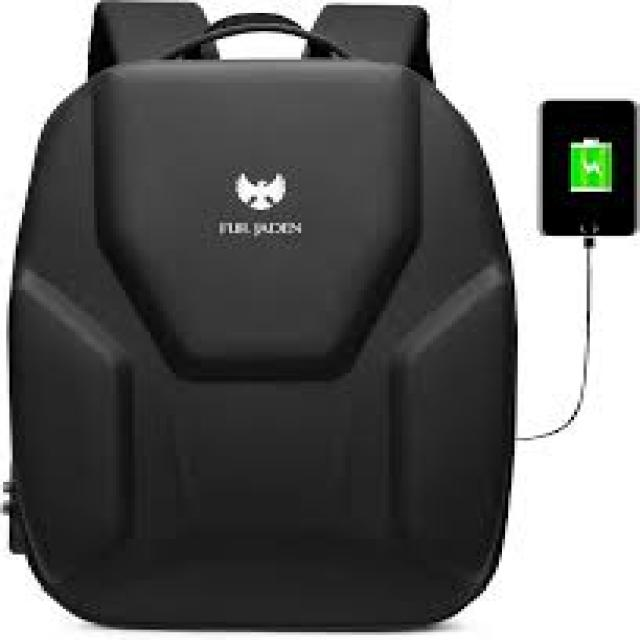backpack: (1, 4, 519, 631)
